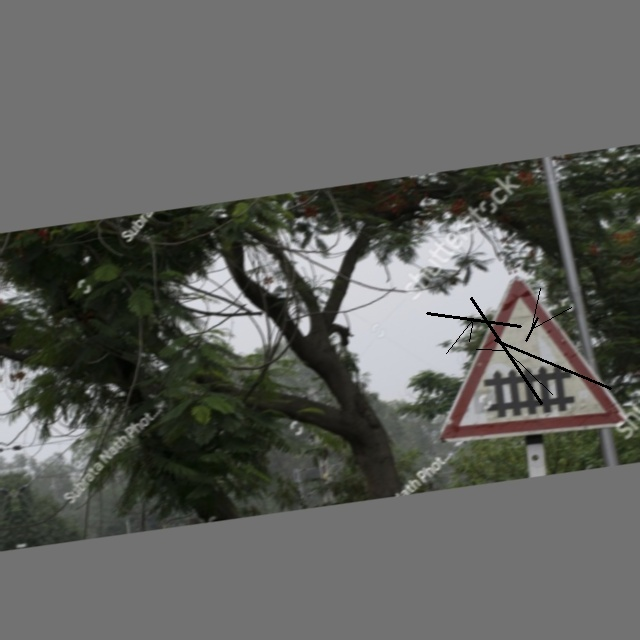Guarded_Level_Crossing: (422, 267, 622, 448)
